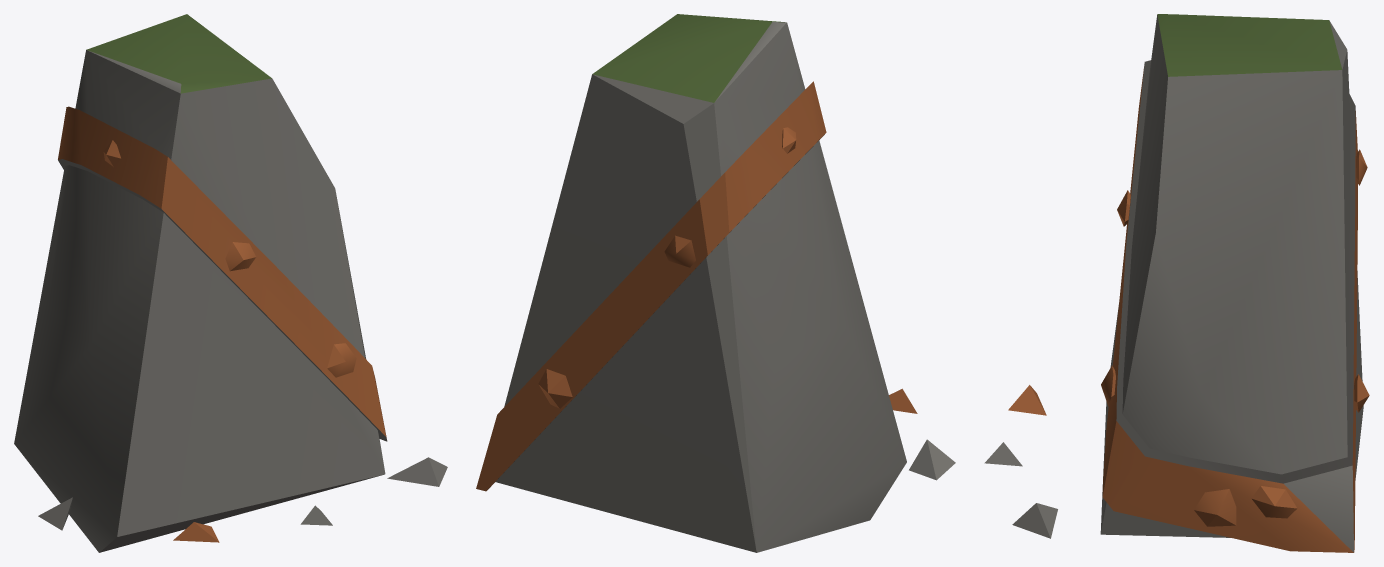
File: MiningCragA.fbx
The picture shows the model from 3 angles, left to right: view 1: azimuth 30°, elevation 25°; view 2: azimuth 150°, elevation 25°; view 3: azimuth 270°, elevation 25°; orthographic projection. The views are drawn at different scales.
Parts seen in each view (by area): view 1: MiningCragA; view 2: MiningCragA; view 3: MiningCragA.
Part boxes in pixels (x1,y1,x2,y2): MiningCragA: (14,14,447,552); MiningCragA: (476,14,955,552); MiningCragA: (984,14,1369,552).
Size of the model in its own units: 1.49 by 1.77 by 1.31.
